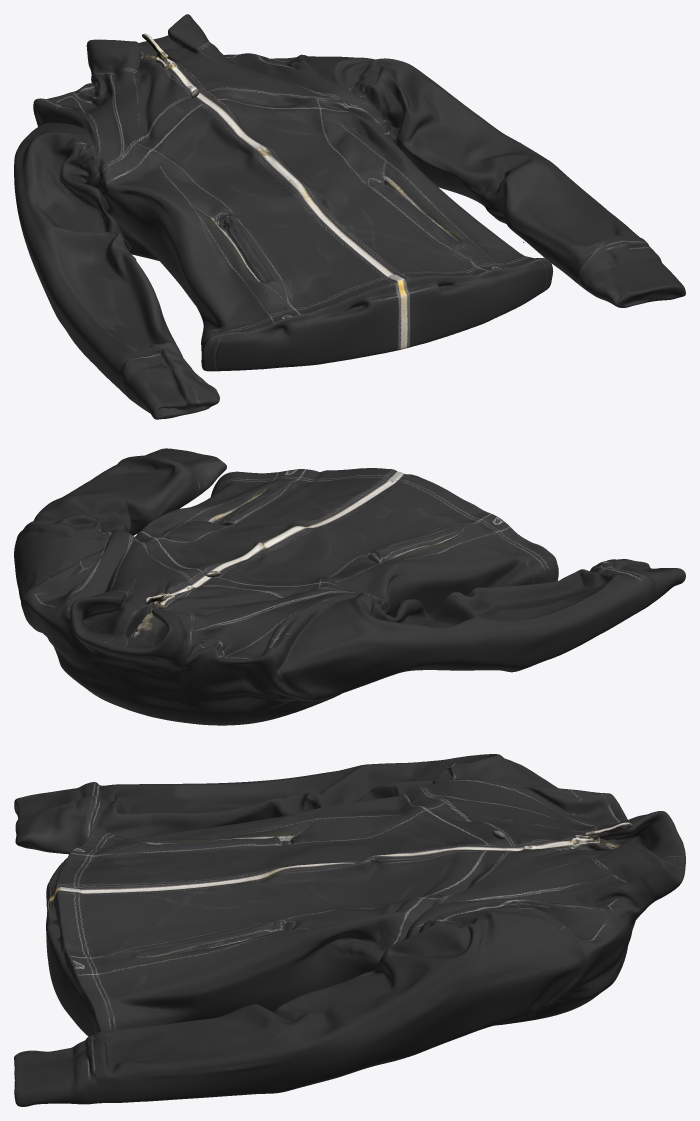
The model's file is black_rashguard.glb.
3 renders of one model, top to bottom at view 1: azimuth 30°, elevation 25°; view 2: azimuth 150°, elevation 25°; view 3: azimuth 270°, elevation 25°, orthographic. The views are drawn at different scales.
Size of the model in its own units: 1.9 by 0.4353 by 1.86.
1 material, 1 textured.
